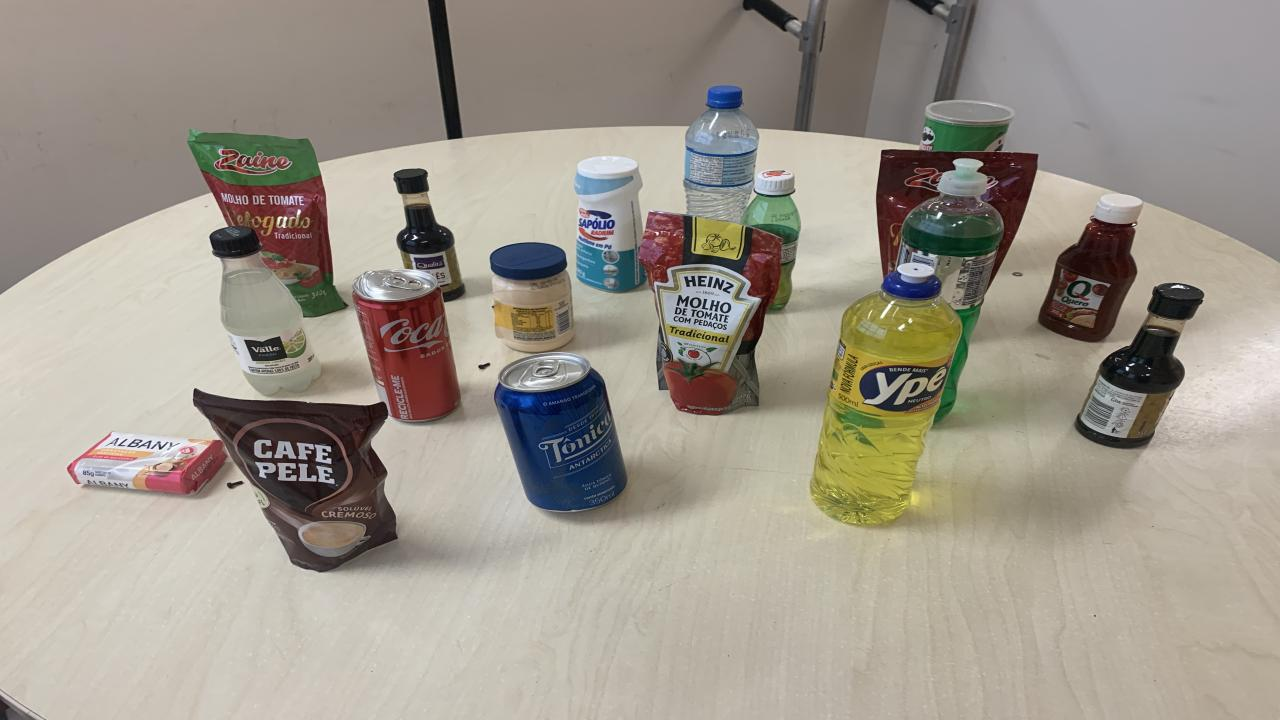Cleaner-Cleanup_Items: (575, 156, 645, 292)
Coffee-Pantry_Items: (192, 390, 398, 572)
Coke-Drinks: (352, 270, 460, 422)
Detergent-Cleanup_Items: (810, 264, 962, 525), (898, 158, 1005, 420)
English_Sauce-Pantry_Items: (1075, 283, 1205, 448), (398, 191, 465, 300), (395, 169, 428, 188)
Guarana-Drinks: (742, 171, 800, 309)
Ketchup-Pantry_Items: (1038, 193, 1142, 341)
Mayonnaise-Pantry_Items: (490, 242, 575, 352)
Pringles-Snacks: (920, 99, 1015, 152)
Soap-Cleanup_Items: (68, 431, 225, 495)
Soda-Drinks: (210, 227, 320, 396)
Tomato_Sauce-Pantry_Items: (188, 129, 345, 315), (640, 212, 782, 414), (875, 150, 1038, 279)
Tonic-Drinks: (495, 352, 628, 512)
Water_Bottle-Drinks: (685, 86, 760, 223)
